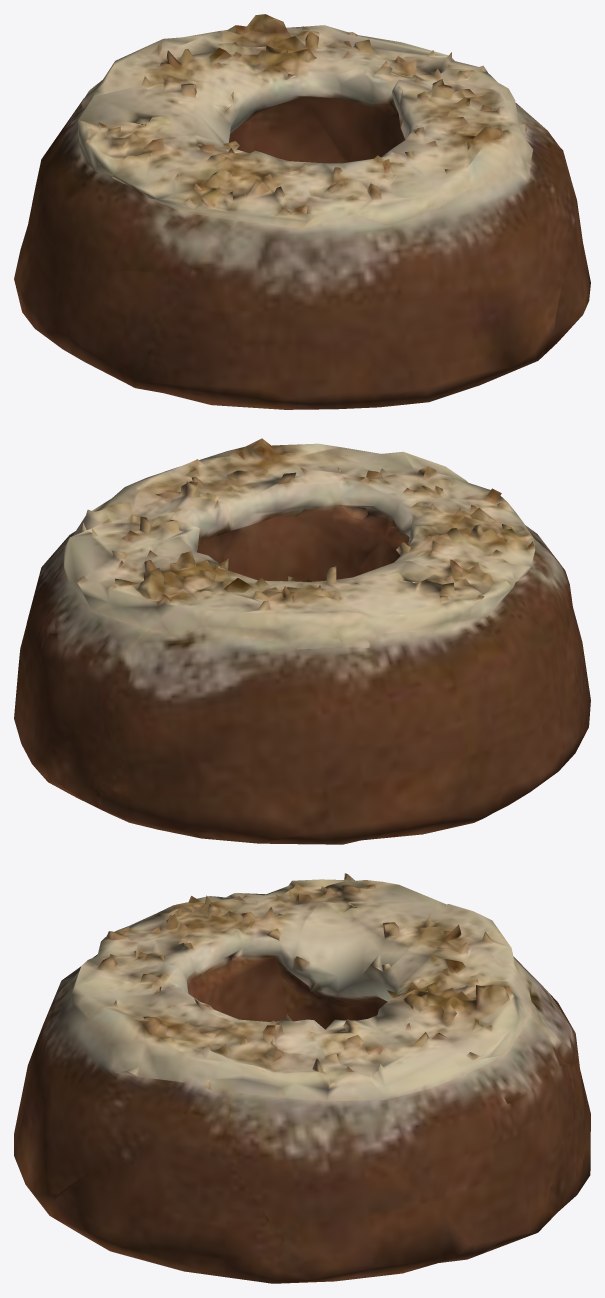
File: carrot_cake.glb
The picture shows the model from 3 angles, top to bottom: view 1: azimuth 30°, elevation 25°; view 2: azimuth 150°, elevation 25°; view 3: azimuth 270°, elevation 25°; orthographic projection. The views are drawn at different scales.
Visible parts, largest first — view 1: carrot_cake; view 2: carrot_cake; view 3: carrot_cake.
Boxes of the visible parts, box(x1,y1,x2,y2) form: carrot_cake: box(14, 14, 590, 409); carrot_cake: box(14, 438, 590, 844); carrot_cake: box(14, 873, 590, 1283).
Bounding box in the file's own units: 0.2254 × 0.0976 × 0.2247.
Materials: 1 (1 with a texture image).
